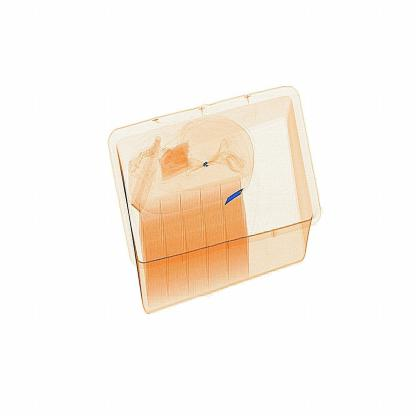pliers: (219, 173, 256, 213)
